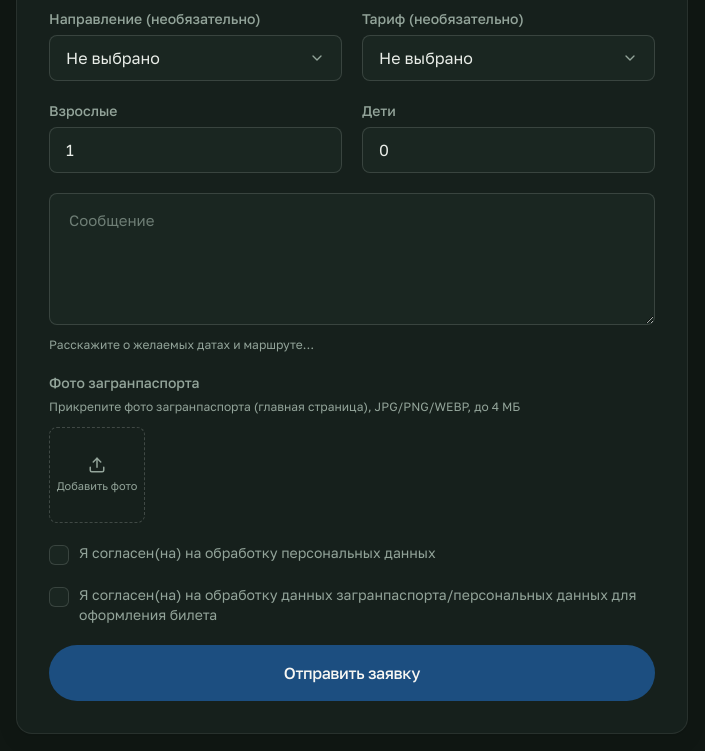
Test case: TravelRequestPage form validation › blocks submission and shows required-field errors when the form is empty
(page scrolled)
Click the button "Отправить заявку": (352, 673) top-left (49, 645), bottom-right (655, 701)
(page scrolled)
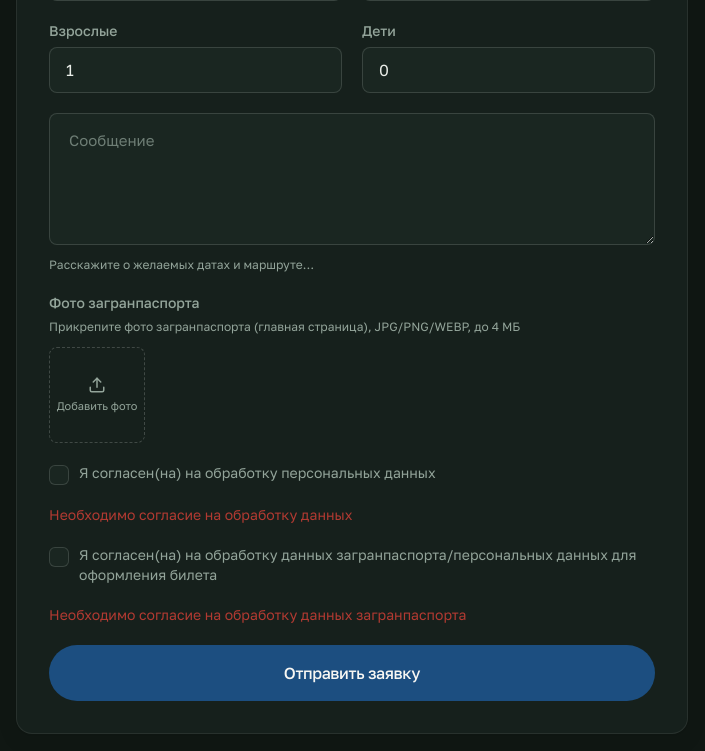
Expected: the text "Необходимо согласие на обработку данных" is shown, top-left (49, 506), bottom-right (352, 523)
